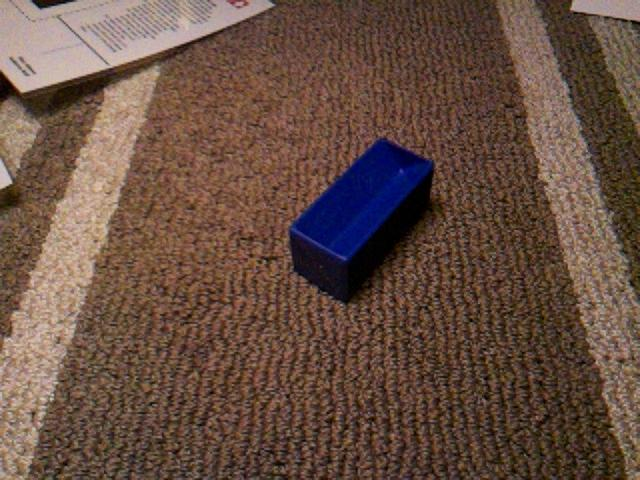blue: (287, 136, 436, 304)
